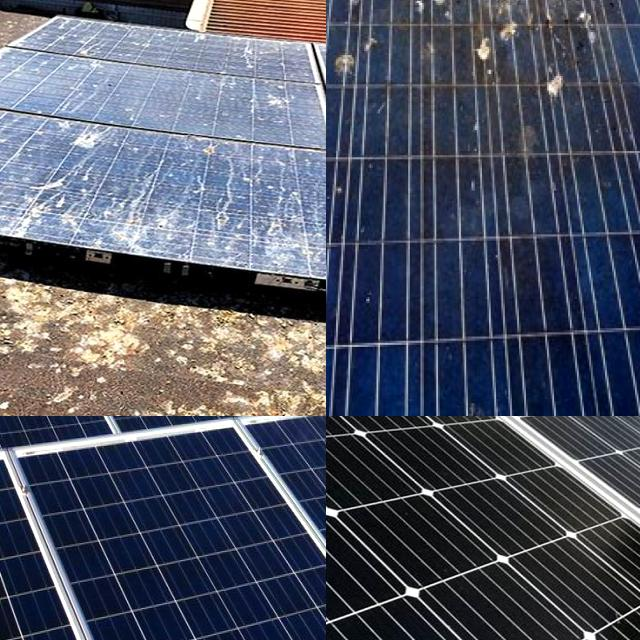bird: (420, 0, 569, 62), (328, 24, 400, 88), (460, 16, 525, 78), (43, 124, 138, 164), (248, 204, 316, 256), (240, 82, 316, 120), (98, 200, 166, 240), (12, 175, 62, 229), (331, 0, 386, 24), (197, 138, 244, 166), (0, 187, 49, 213), (0, 105, 36, 140), (0, 148, 43, 174), (547, 61, 567, 113), (326, 68, 347, 113), (326, 0, 343, 20), (326, 0, 339, 21)
crack: (326, 416, 640, 640), (11, 448, 326, 640), (0, 445, 202, 640), (47, 416, 295, 496), (0, 416, 129, 494), (197, 416, 326, 483), (0, 416, 81, 493)
